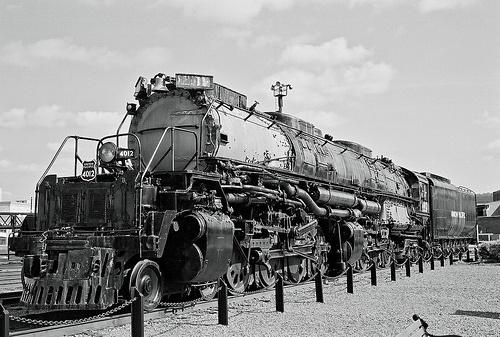train: (14, 74, 481, 317)
